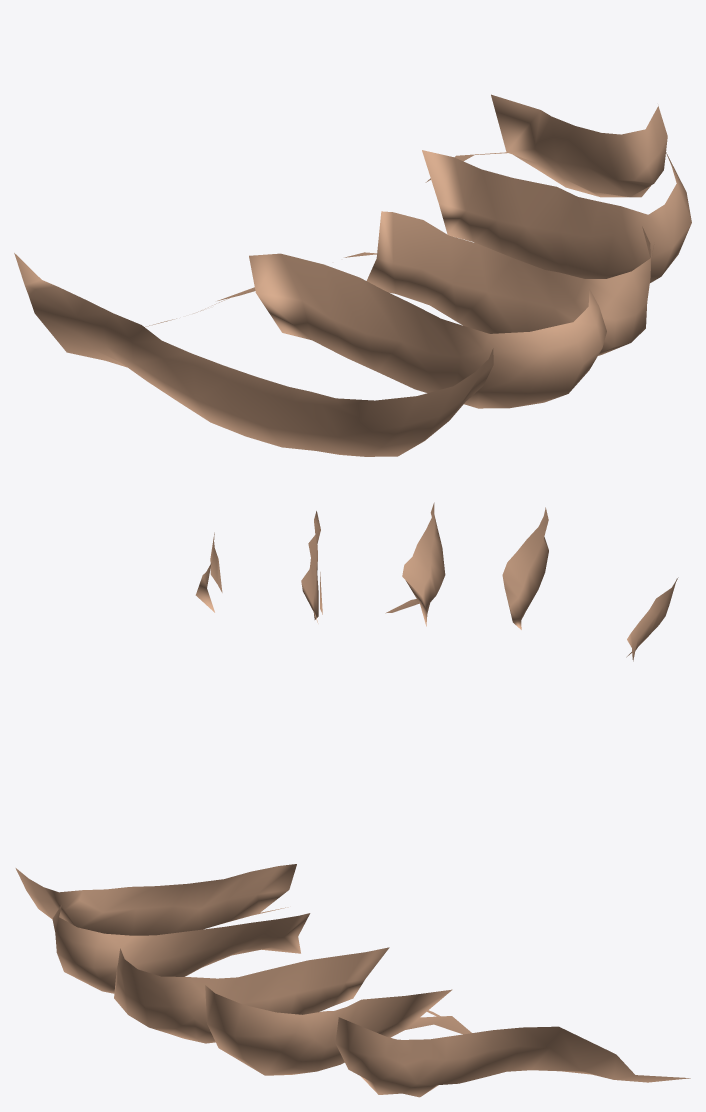
The model's file is plantar-surfaces-of-digits-of-foot-l.glb.
The picture shows the model from 3 angles, top to bottom: view 1: azimuth 30°, elevation 25°; view 2: azimuth 150°, elevation 25°; view 3: azimuth 270°, elevation 25°; orthographic projection. The views are drawn at different scales.
Visible parts, largest first — view 1: Plantar surfaces of digits of foot.l; view 2: Plantar surfaces of digits of foot.l; view 3: Plantar surfaces of digits of foot.l.
Part boxes in pixels (x1,y1,x2,y2): Plantar surfaces of digits of foot.l: (14,94,691,456); Plantar surfaces of digits of foot.l: (195,502,678,661); Plantar surfaces of digits of foot.l: (15,864,690,1097).
Size of the model in its own units: 0.0851 by 0.0189 by 0.0979.
